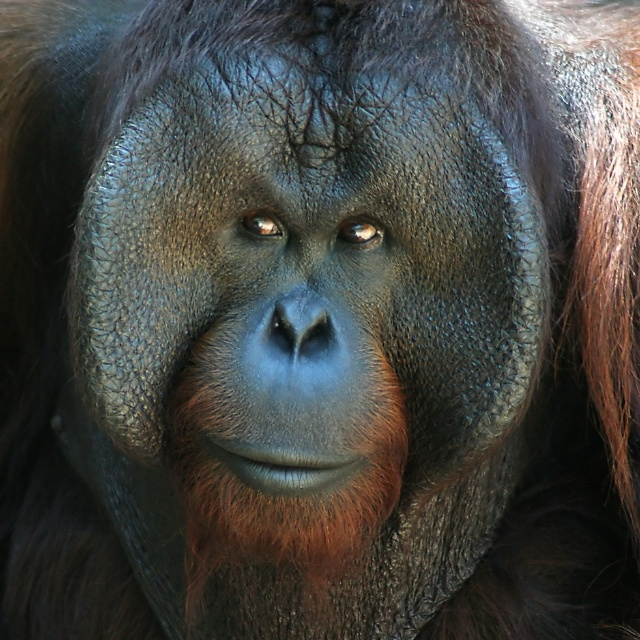Monkey: (2, 9, 637, 640)
